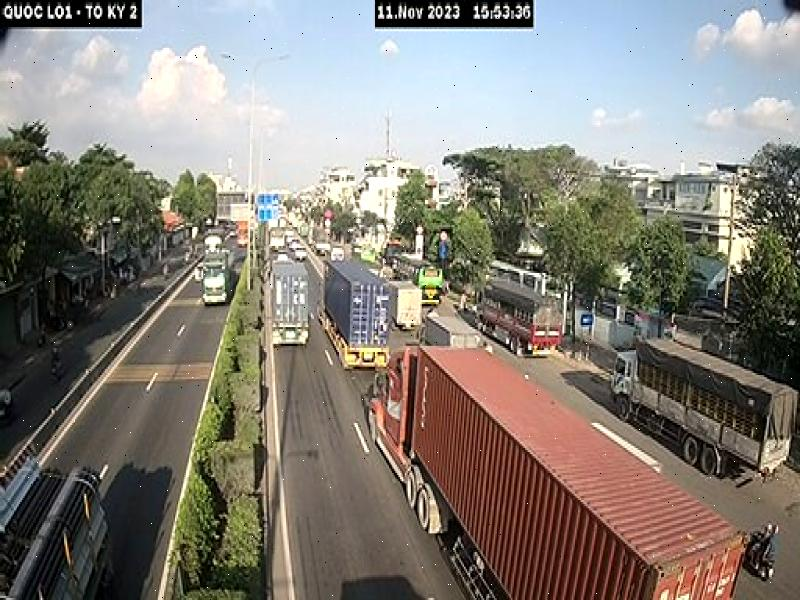bus: (389, 245, 445, 306)
truck: (359, 339, 749, 600), (609, 334, 797, 488), (316, 255, 390, 372), (477, 271, 567, 358), (271, 256, 312, 352)
